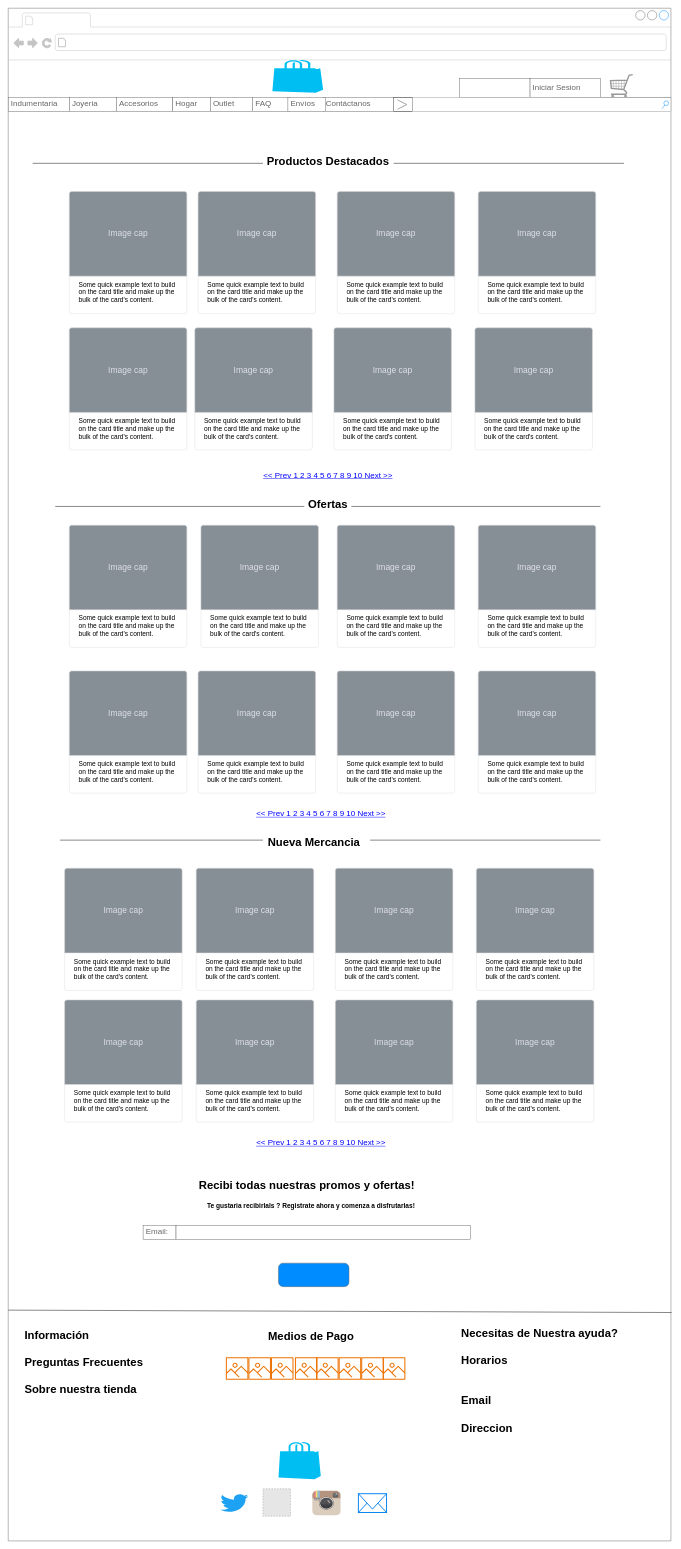
Some shapes in this 681 by 1549 pixel diagram are drawn without their labels. Grey dashed boxes stand in for pictures. Here are the shapes that lost their labels. From the top down, the box of each, then its label:
(36, 13, 88, 26): Page 1
(69, 36, 187, 49): https://www.draw.io
(459, 78, 530, 98): Crear Cuenta
(412, 97, 671, 112): Search
(278, 1263, 349, 1287): Enviar
